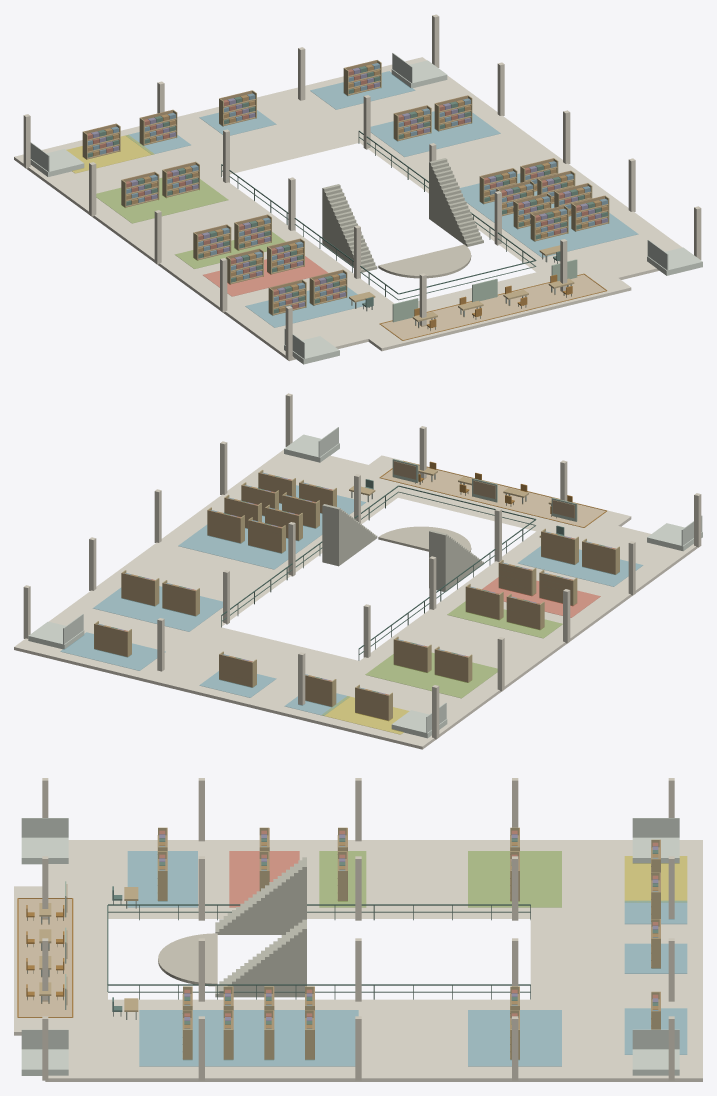
Rendered from 图书馆_3楼_试点常态.glb.
The picture shows the model from 3 angles, top to bottom: view 1: azimuth 30°, elevation 25°; view 2: azimuth 150°, elevation 25°; view 3: azimuth 270°, elevation 25°; orthographic projection. The views are drawn at different scales.
Parts seen in each view (by area): view 1: guide_outline_floor_slab, guide_function_tint (×10), proposed_candidate_zone, corner_service_room (×4), photo_guided_curved_landing; view 2: guide_outline_floor_slab, rack_back (×22), guide_function_tint (×9), corner_service_room (×4), proposed_candidate_zone, central_stair_tread (×2), photo_guided_curved_landing; view 3: guide_outline_floor_slab, guide_function_tint (×10), proposed_candidate_zone, corner_service_room (×4), service_partition (×4), photo_guided_curved_landing, atrium_rail_top (×2), atrium_rail_lower (×2).
Part boxes in pixels (<box>): guide_outline_floor_slab: <box>14,57,682,360</box>; guide_function_tint (×10): <box>66,71,638,327</box>; proposed_candidate_zone: <box>382,274,605,339</box>; corner_service_room (×4): <box>30,60,702,364</box>; photo_guided_curved_landing: <box>378,244,471,278</box>; guide_outline_floor_slab: <box>14,449,697,749</box>; rack_back (×22): <box>94,472,615,720</box>; guide_function_tint (×9): <box>60,485,642,734</box>; corner_service_room (×4): <box>28,434,702,738</box>; proposed_candidate_zone: <box>381,467,604,526</box>; central_stair_tread (×2): <box>322,504,447,591</box>; photo_guided_curved_landing: <box>378,526,471,551</box>; guide_outline_floor_slab: <box>14,840,702,1081</box>; guide_function_tint (×10): <box>127,851,687,1066</box>; proposed_candidate_zone: <box>19,899,71,1016</box>; corner_service_room (×4): <box>21,837,679,1075</box>; service_partition (×4): <box>21,818,679,1049</box>; photo_guided_curved_landing: <box>158,933,217,986</box>; atrium_rail_top (×2): <box>108,904,530,985</box>; atrium_rail_lower (×2): <box>108,911,530,992</box>.
Size of the model in its own units: 36.4 by 4.9 by 44.
